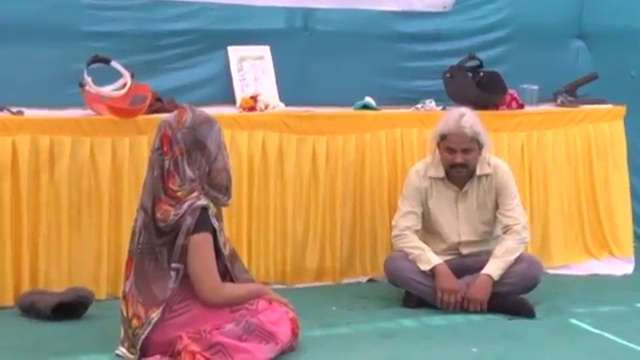helmet_off: (148, 107, 234, 207), (434, 107, 483, 183)
person: (114, 102, 299, 360), (382, 106, 546, 318)
